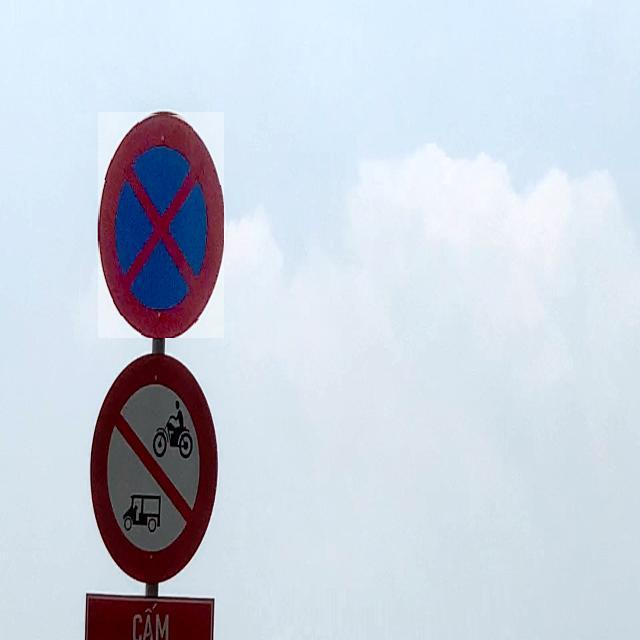P-130: (98, 112, 224, 338)
